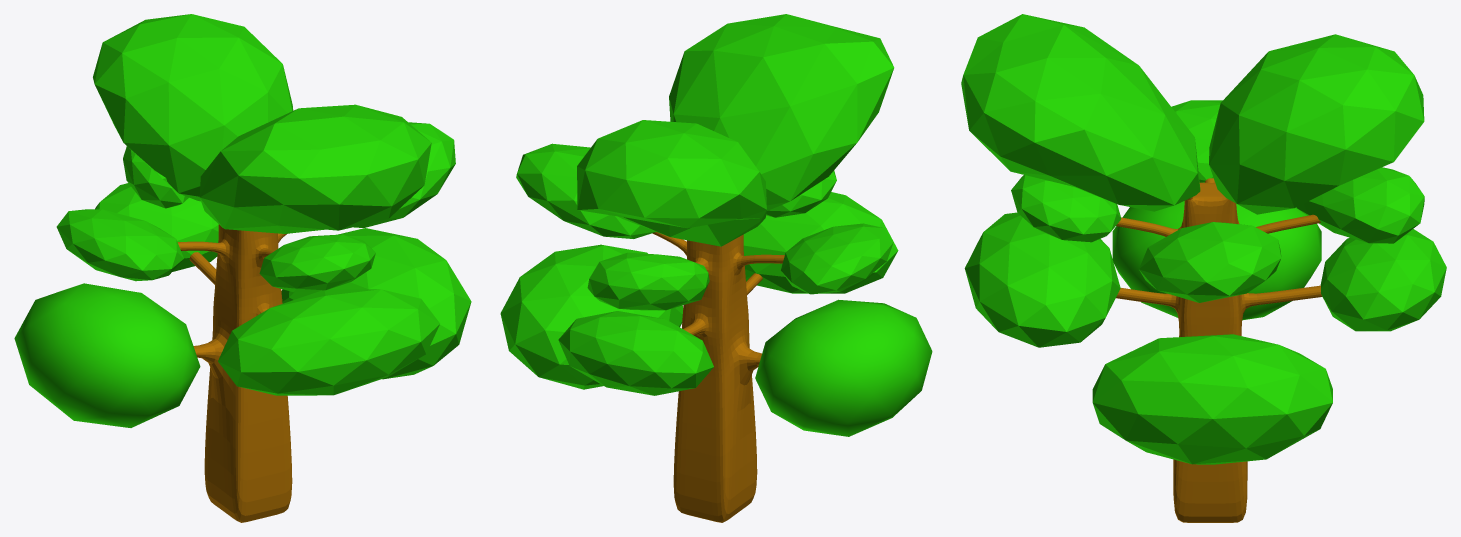
Rendered from tree1.glb.
3 renders of one model, left to right at view 1: azimuth 30°, elevation 25°; view 2: azimuth 150°, elevation 25°; view 3: azimuth 270°, elevation 25°, orthographic. The views are drawn at different scales.
Parts seen in each view (by area): view 1: Cube; view 2: Cube; view 3: Cube.
Boxes of the visible parts, box(x1,y1,x2,y2) form: Cube: box(14, 14, 471, 522); Cube: box(500, 14, 932, 522); Cube: box(961, 14, 1446, 522).
Size of the model in its own units: 4.91 by 5.03 by 4.75.
